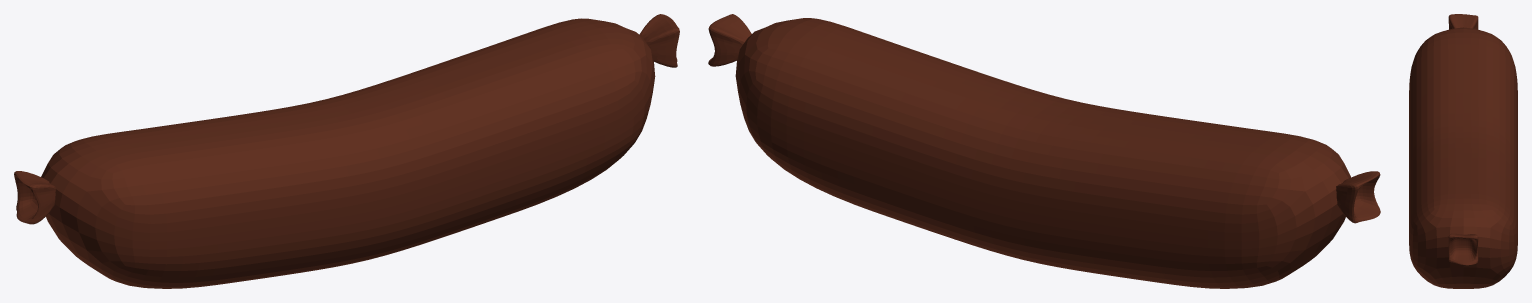
The model's file is Bologna.fbx.
3 views of the same model, side by side, from view 1: azimuth 30°, elevation 25°; view 2: azimuth 150°, elevation 25°; view 3: azimuth 270°, elevation 25° (orthographic). The views are drawn at different scales.
Parts seen in each view (by area): view 1: Колбаса; view 2: Колбаса; view 3: Колбаса.
Boxes of the visible parts, x1,y1,x2,y2 form: Колбаса: [14, 14, 679, 288]; Колбаса: [708, 14, 1380, 288]; Колбаса: [1409, 14, 1517, 288].
Bounding box in the file's own units: 982 × 228 × 200.
